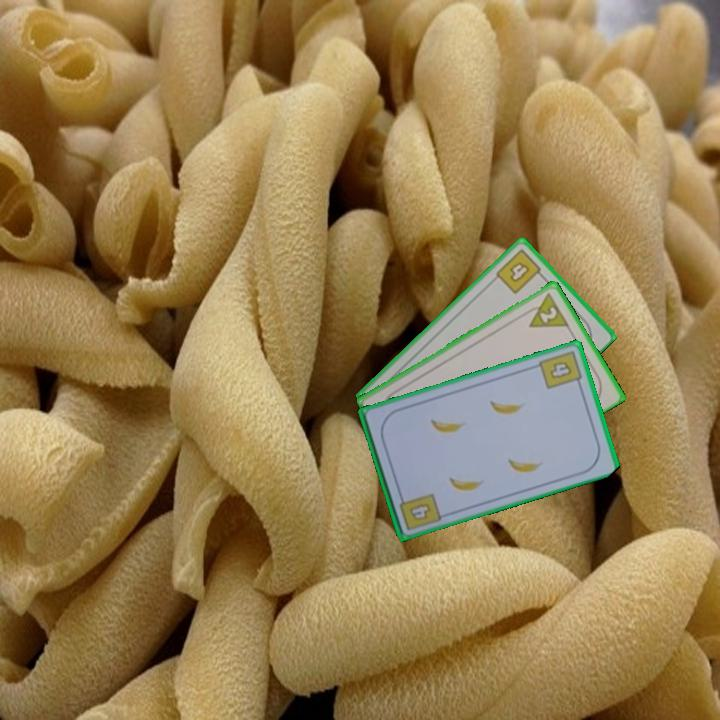2p: (519, 289, 571, 331)
4b: (492, 245, 548, 297), (536, 347, 585, 392), (395, 489, 444, 533)
